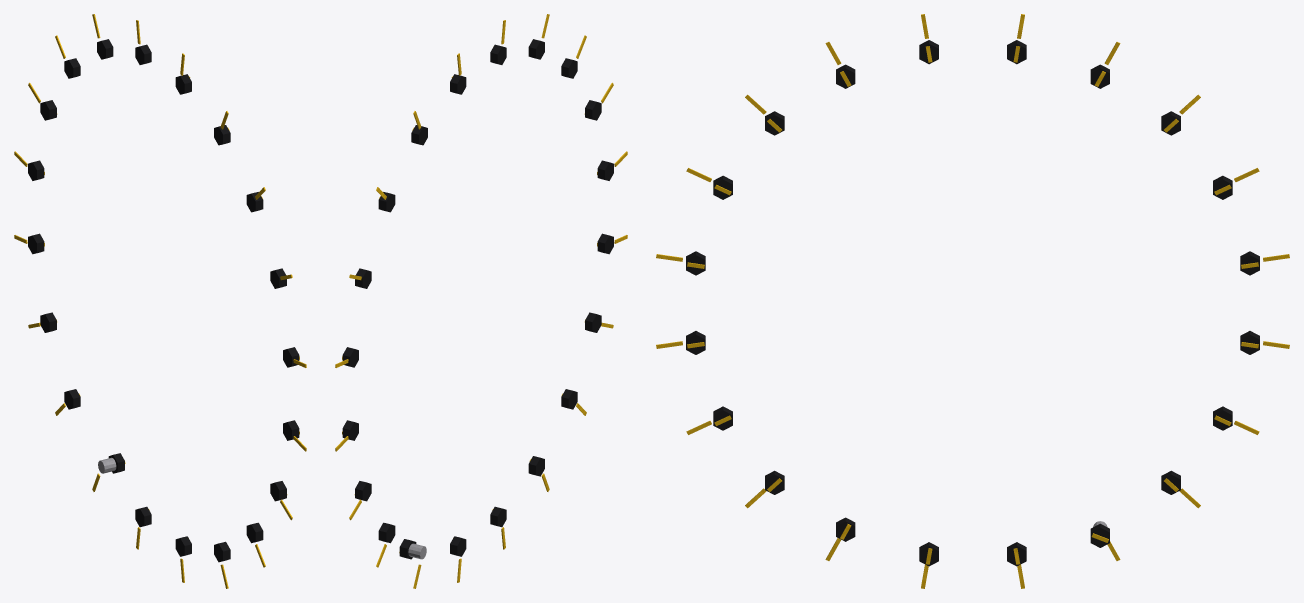
The model's file is shrink_disc_bolts_loose.glb.
3 views of the same model, side by side, from view 1: azimuth 30°, elevation 25°; view 2: azimuth 150°, elevation 25°; view 3: azimuth 270°, elevation 25° (orthographic). The views are drawn at different scales.
Visible parts, largest first — view 1: shrink_disc_bolts_loose; view 2: shrink_disc_bolts_loose; view 3: shrink_disc_bolts_loose.
Part boxes in pixels (left/top/right/bottom): shrink_disc_bolts_loose: left=14, top=14, right=306, bottom=588; shrink_disc_bolts_loose: left=335, top=14, right=627, bottom=588; shrink_disc_bolts_loose: left=656, top=14, right=1289, bottom=588.
Bounding box in the file's own units: 0.038 × 0.9491 × 0.9491.
Materials: 3 (2 with a texture image).
